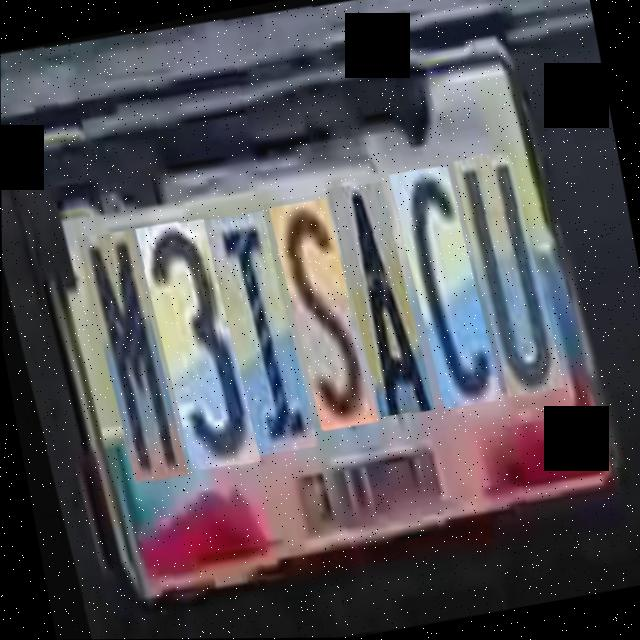3: (132, 213, 254, 474)
A: (322, 173, 427, 416)
C: (382, 156, 495, 407)
I: (198, 207, 312, 457)
M: (72, 225, 184, 486)
S: (262, 191, 373, 430)
U: (446, 141, 557, 393)
